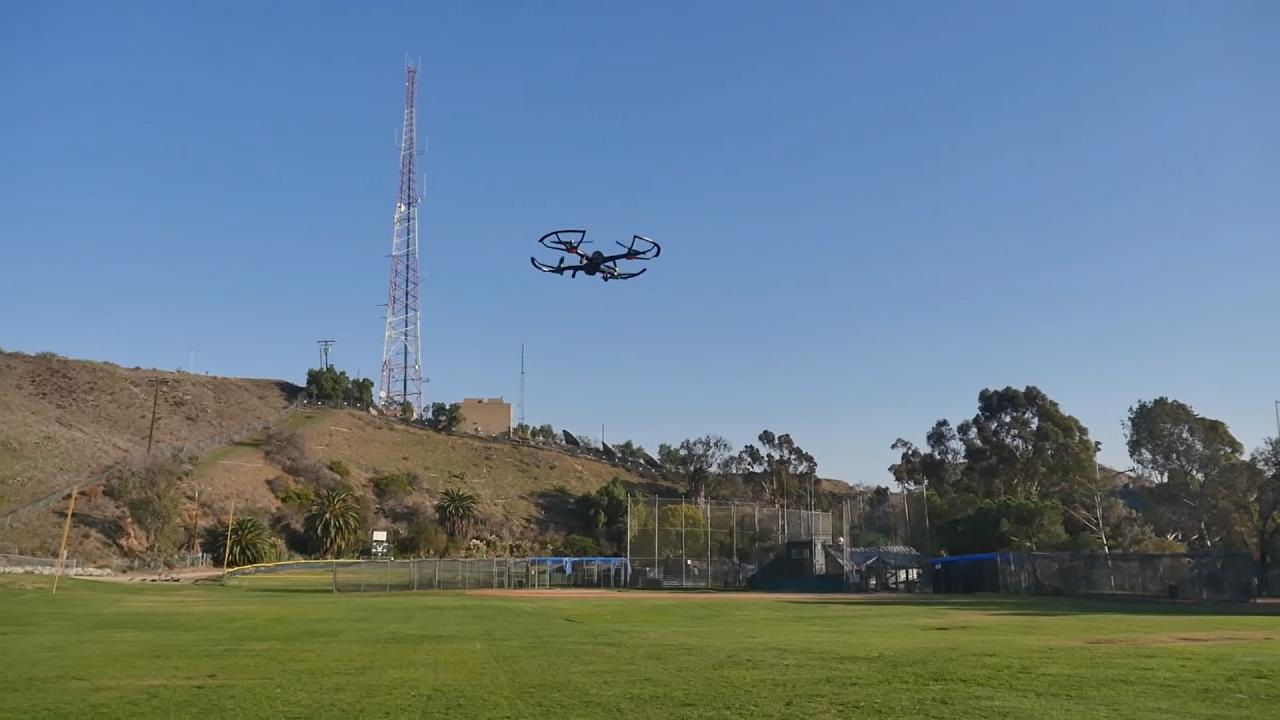Drone: (525, 224, 669, 294)
